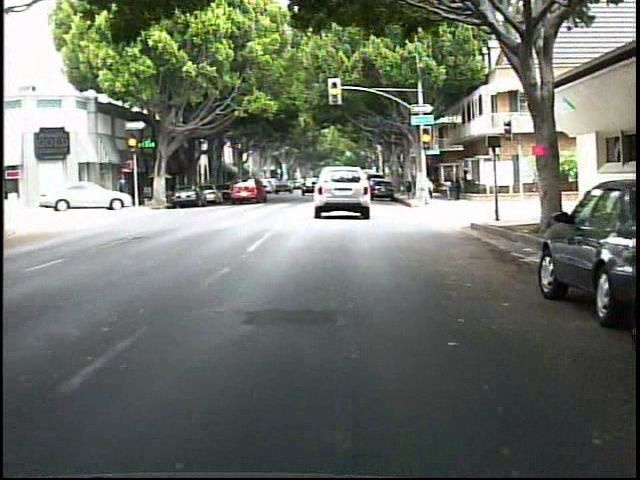person: (415, 171, 437, 210), (451, 167, 464, 204), (442, 169, 456, 202), (461, 163, 473, 196)
